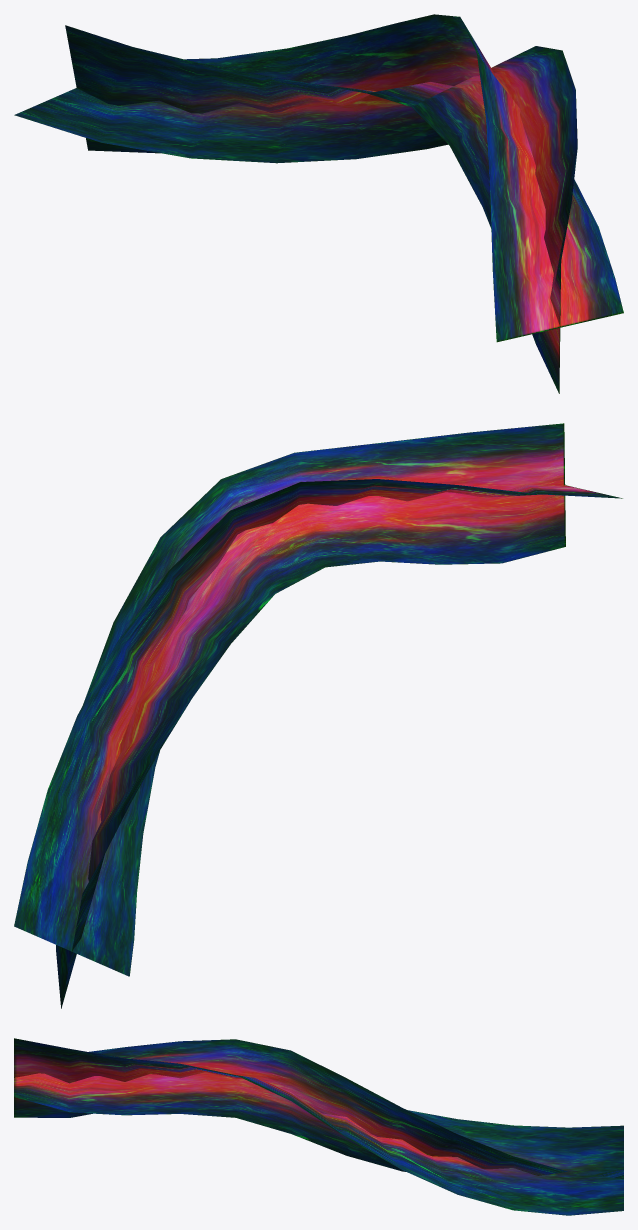
The model's file is ParticleTail002.fbx.
The picture shows the model from 3 angles, top to bottom: view 1: azimuth 30°, elevation 25°; view 2: azimuth 150°, elevation 25°; view 3: azimuth 270°, elevation 25°; orthographic projection. The views are drawn at different scales.
Visible parts, largest first — view 1: pPlane5; view 2: pPlane5; view 3: pPlane5.
Boxes of the visible parts, x1,y1,x2,y2 form: pPlane5: (14,14,623,393); pPlane5: (14,423,622,1008); pPlane5: (14,1038,623,1215).
Bounding box in the file's own units: 59.55 × 65.84 × 191.
1 material, 1 textured.
